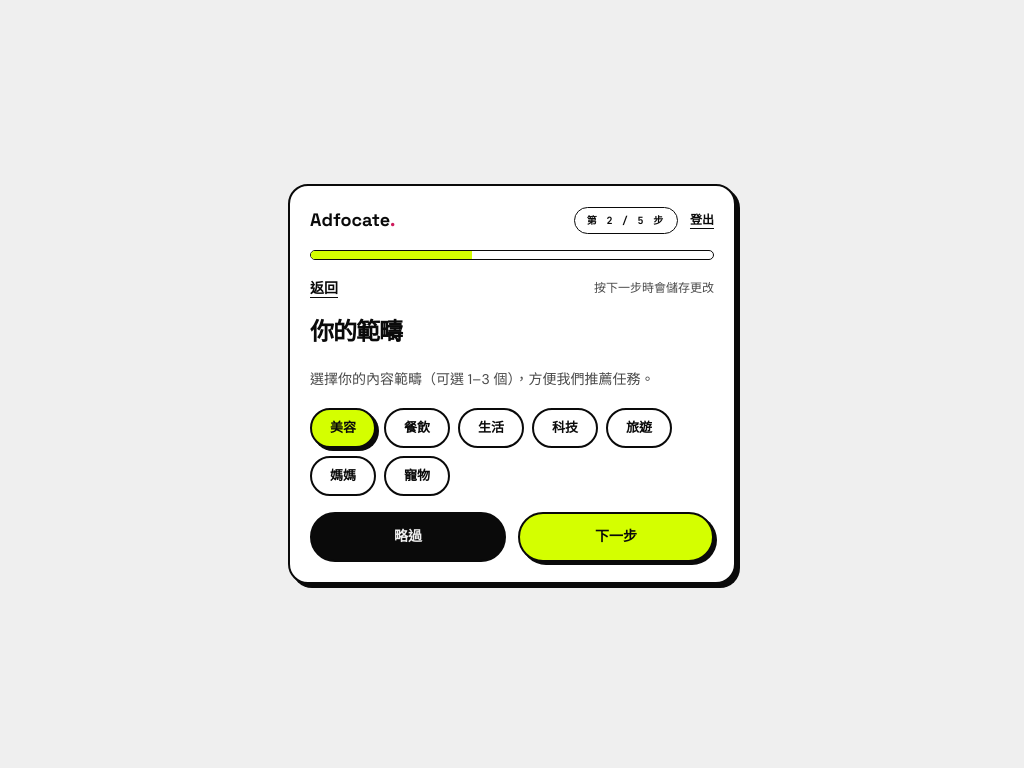
Onboarding wizard › seeds interests from /me and requires discard before dirty Back
Click the button "科技": click(565, 428) x1=532 y1=408 x2=598 y2=448
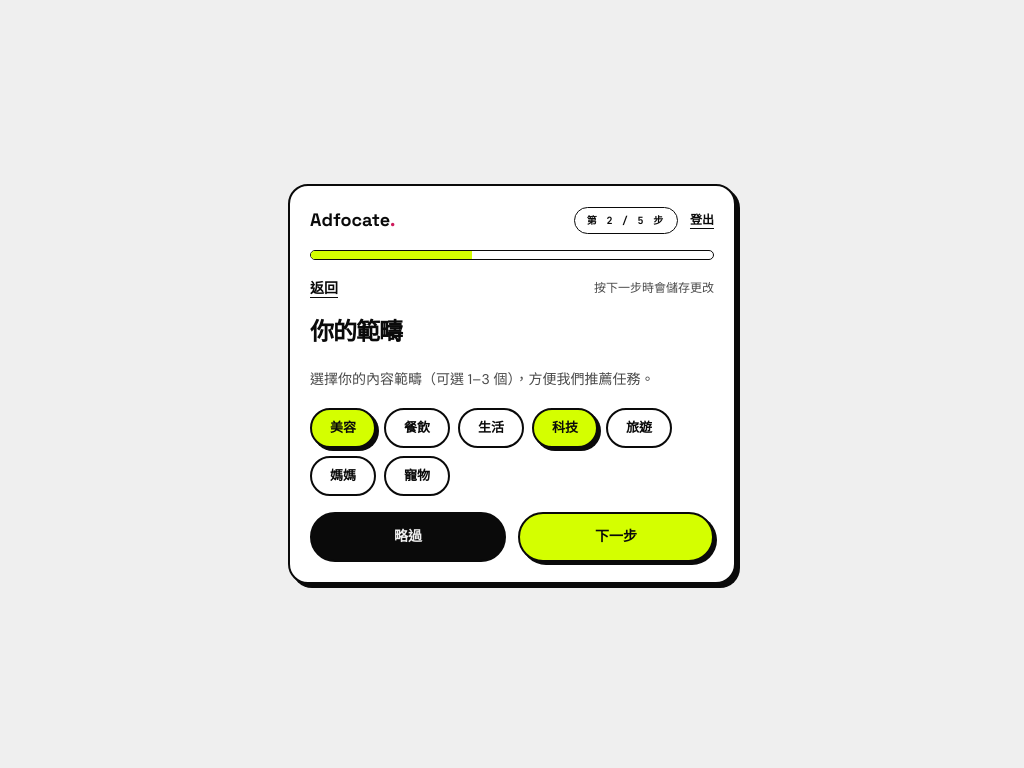
Click the button "返回": click(324, 288) x1=310 y1=278 x2=338 y2=298
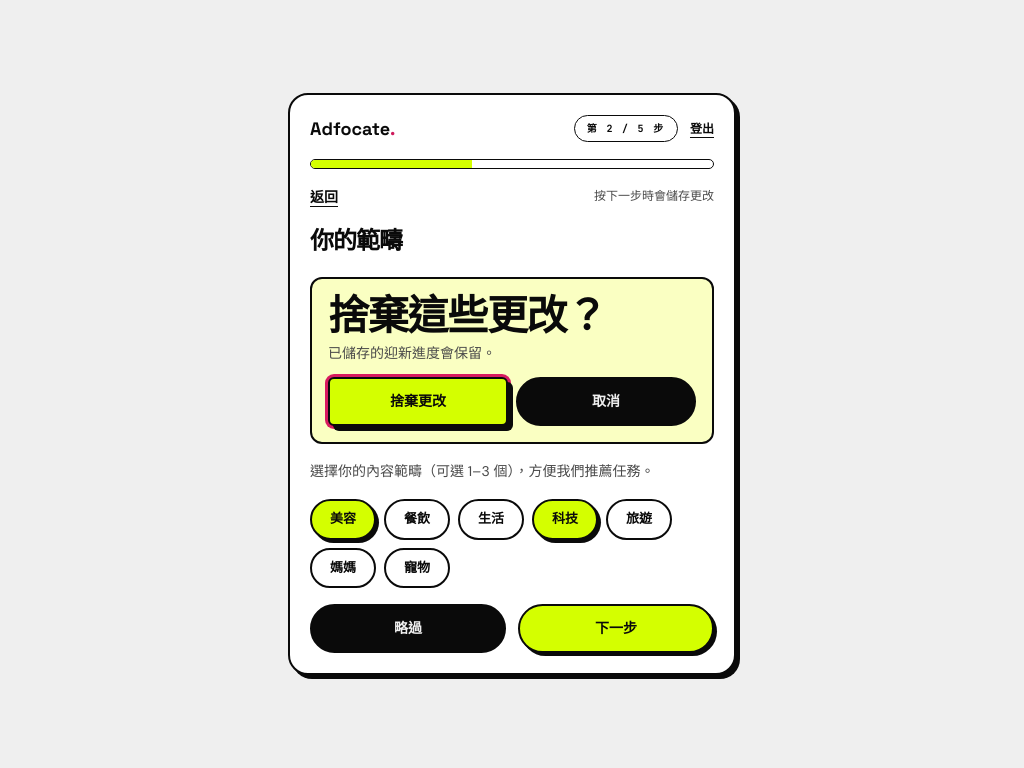
Now the dialog is shown, box x1=310 y1=277 x2=714 y2=444
Click the button "取消": click(606, 402) x1=516 y1=377 x2=696 y2=426
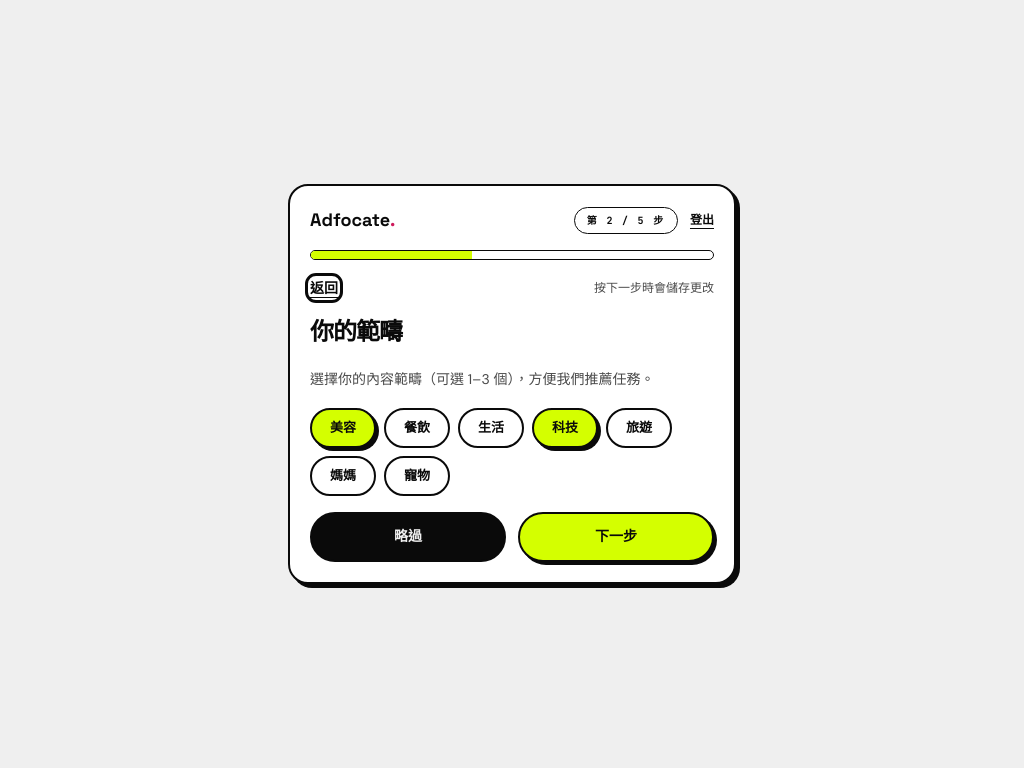
Expected: the heading "你的範疇" is shown, x1=310 y1=316 x2=402 y2=348
Click the button "返回": click(324, 288) x1=310 y1=278 x2=338 y2=298
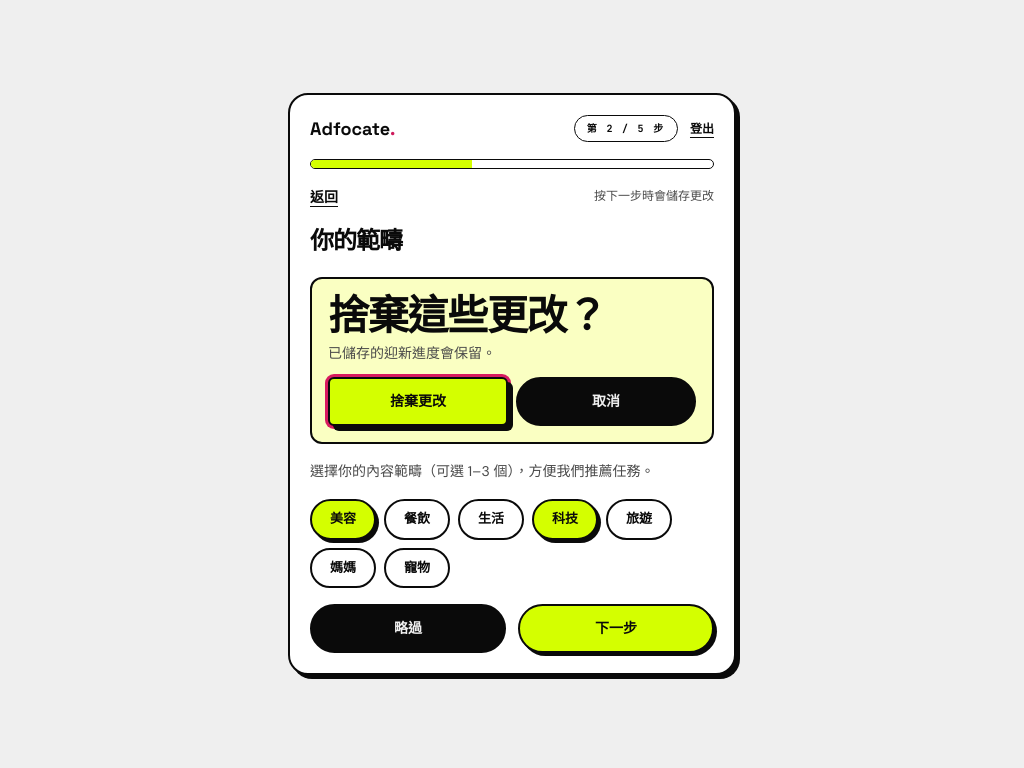
Click the button "捨棄更改": click(418, 402) x1=328 y1=377 x2=508 y2=426
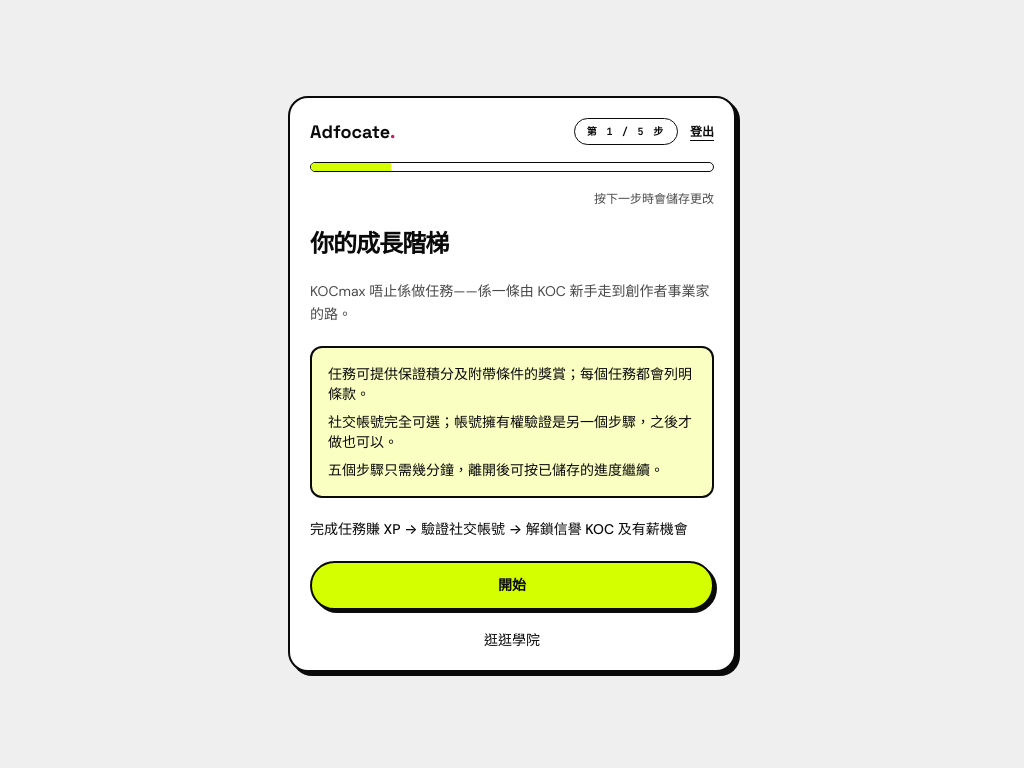
Now the heading "你的成長階梯" is shown, box x1=310 y1=228 x2=448 y2=258
